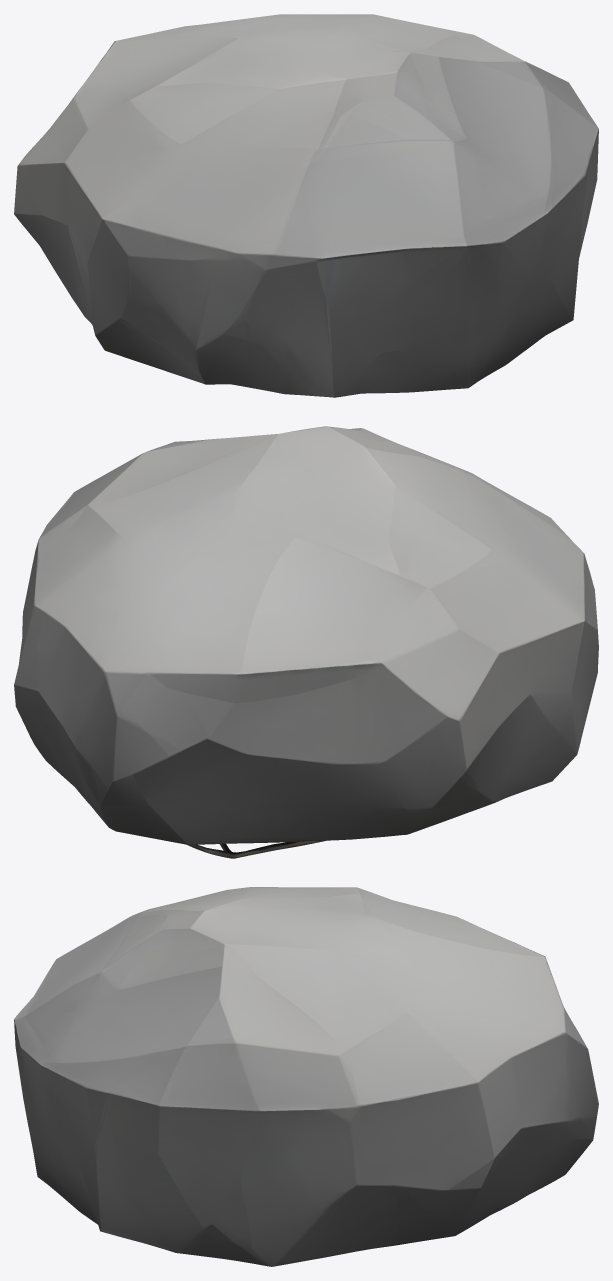
The model's file is rock.glb.
3 views of the same model, one above another, from view 1: azimuth 30°, elevation 25°; view 2: azimuth 150°, elevation 25°; view 3: azimuth 270°, elevation 25° (orthographic). The views are drawn at different scales.
Visible parts, largest first — view 1: model; view 2: model; view 3: model.
Boxes of the visible parts, bbox=[...] form: model: bbox=[14, 14, 598, 397]; model: bbox=[14, 426, 598, 858]; model: bbox=[14, 887, 598, 1266].
Size of the model in its own units: 1.75 by 0.9884 by 1.9.
1 material, 1 textured.
